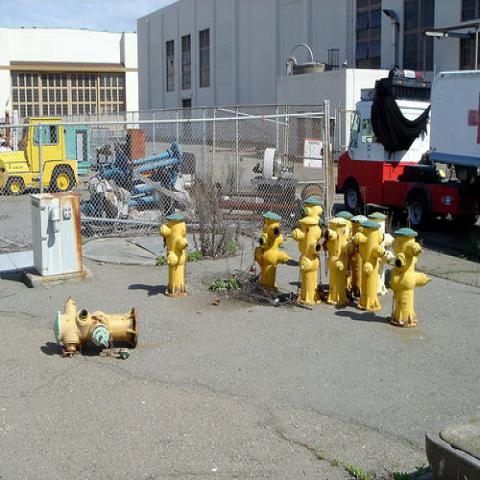truck: (335, 64, 479, 229), (0, 115, 94, 194)
